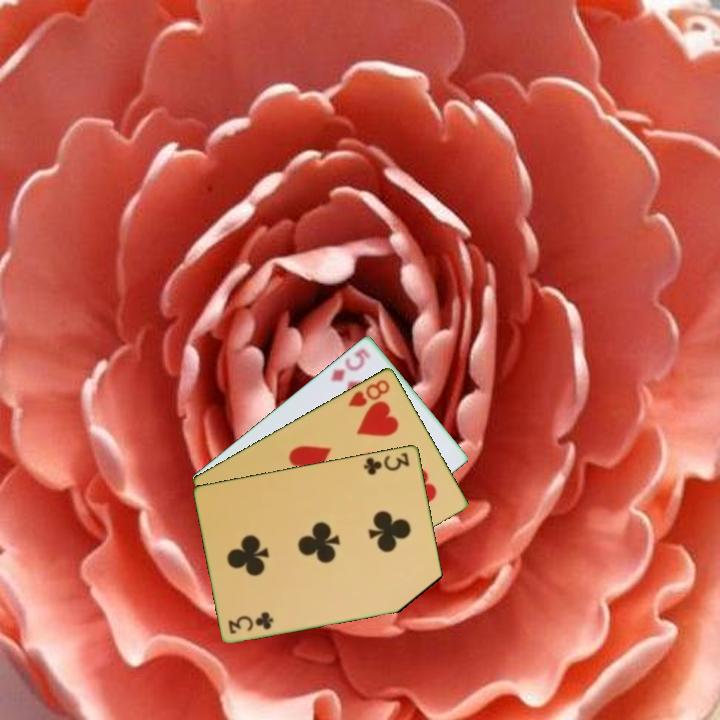3c: (360, 448, 413, 477), (225, 609, 277, 636)
5d: (327, 345, 373, 384)
8h: (345, 375, 393, 410)
